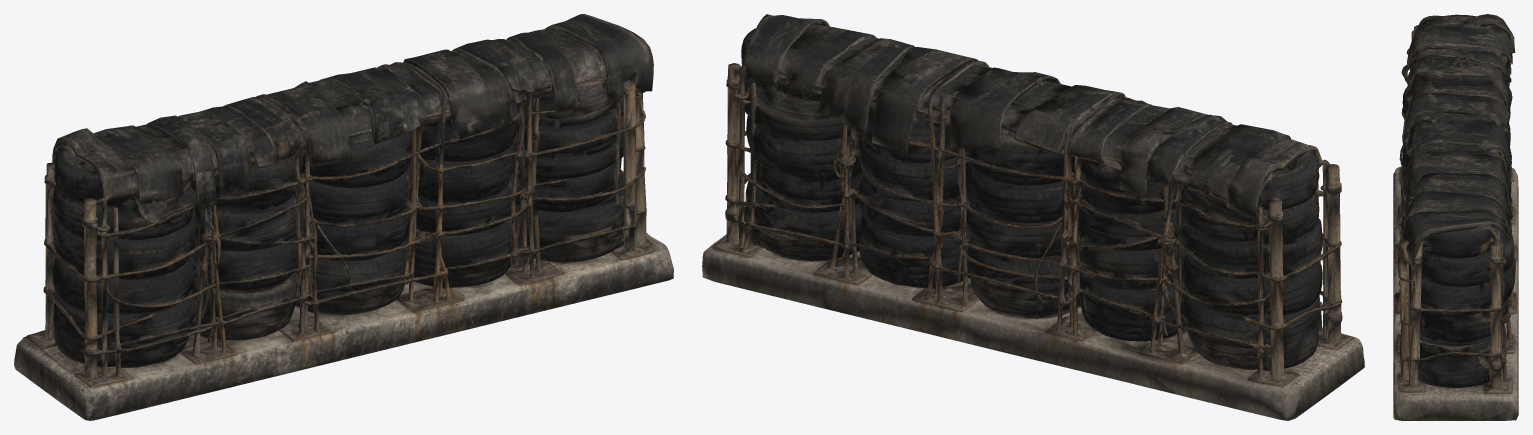
The model's file is tire_wall.glb.
The picture shows the model from 3 angles, left to right: view 1: azimuth 30°, elevation 25°; view 2: azimuth 150°, elevation 25°; view 3: azimuth 270°, elevation 25°; orthographic projection. The views are drawn at different scales.
Visible parts, largest first — view 1: tire_wall; view 2: tire_wall; view 3: tire_wall.
Part boxes in pixels (box(x1,y1,x2,y2)): tire_wall: box(14, 14, 673, 420); tire_wall: box(702, 14, 1364, 420); tire_wall: box(1393, 14, 1518, 420).
Bounding box in the file's own units: 1.9 × 0.7208 × 0.4317.
Materials: 1 (1 with a texture image).
